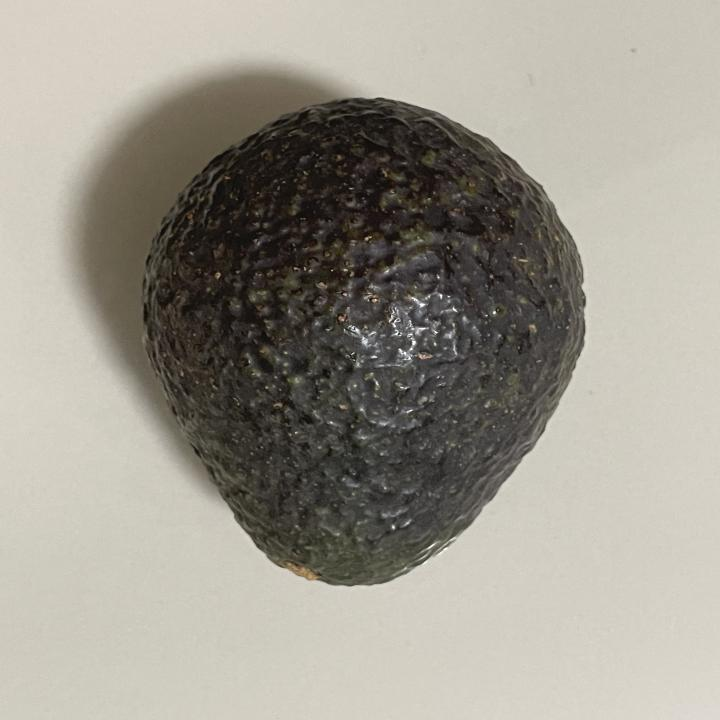Level1: (121, 85, 610, 602)
